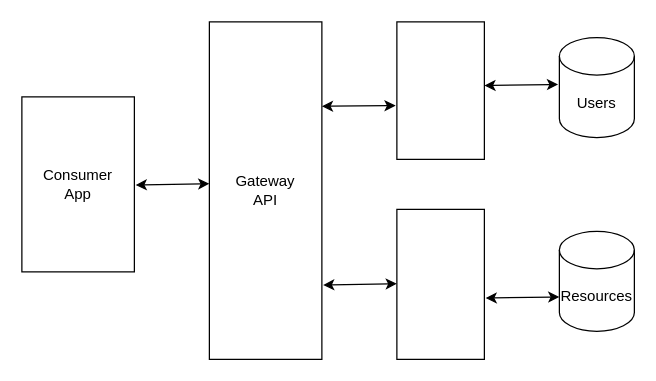
The diagram is 656 pixels wide and 381 high, and some of its shapes have lost their labels. Here are the shapes that lost their labels. From the top down, the box of each, then its label:
(396, 21, 484, 159): Utils
(396, 208, 484, 359): Resource API
